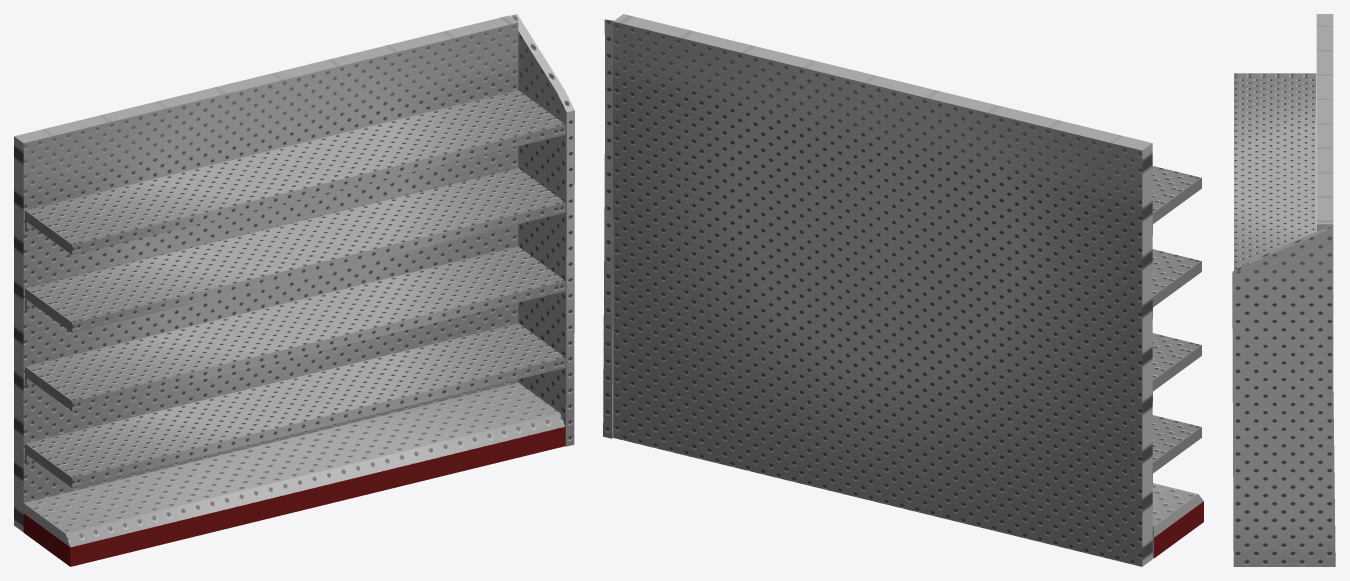
Rendered from Mesh_Static_Estante_02.fbx.
3 views of the same model, side by side, from view 1: azimuth 30°, elevation 25°; view 2: azimuth 150°, elevation 25°; view 3: azimuth 270°, elevation 25° (orthographic). The views are drawn at different scales.
Visible parts, largest first — view 1: Cube.052; view 2: Cube.052; view 3: Cube.052.
Boxes of the visible parts, x1,y1,x2,y2 form: Cube.052: [14, 14, 574, 566]; Cube.052: [603, 14, 1203, 566]; Cube.052: [1232, 14, 1335, 566].
Size of the model in its own units: 993 by 733 by 202.
